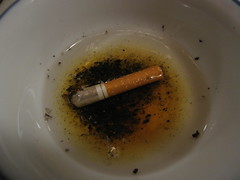cigarette: (69, 65, 166, 110)
